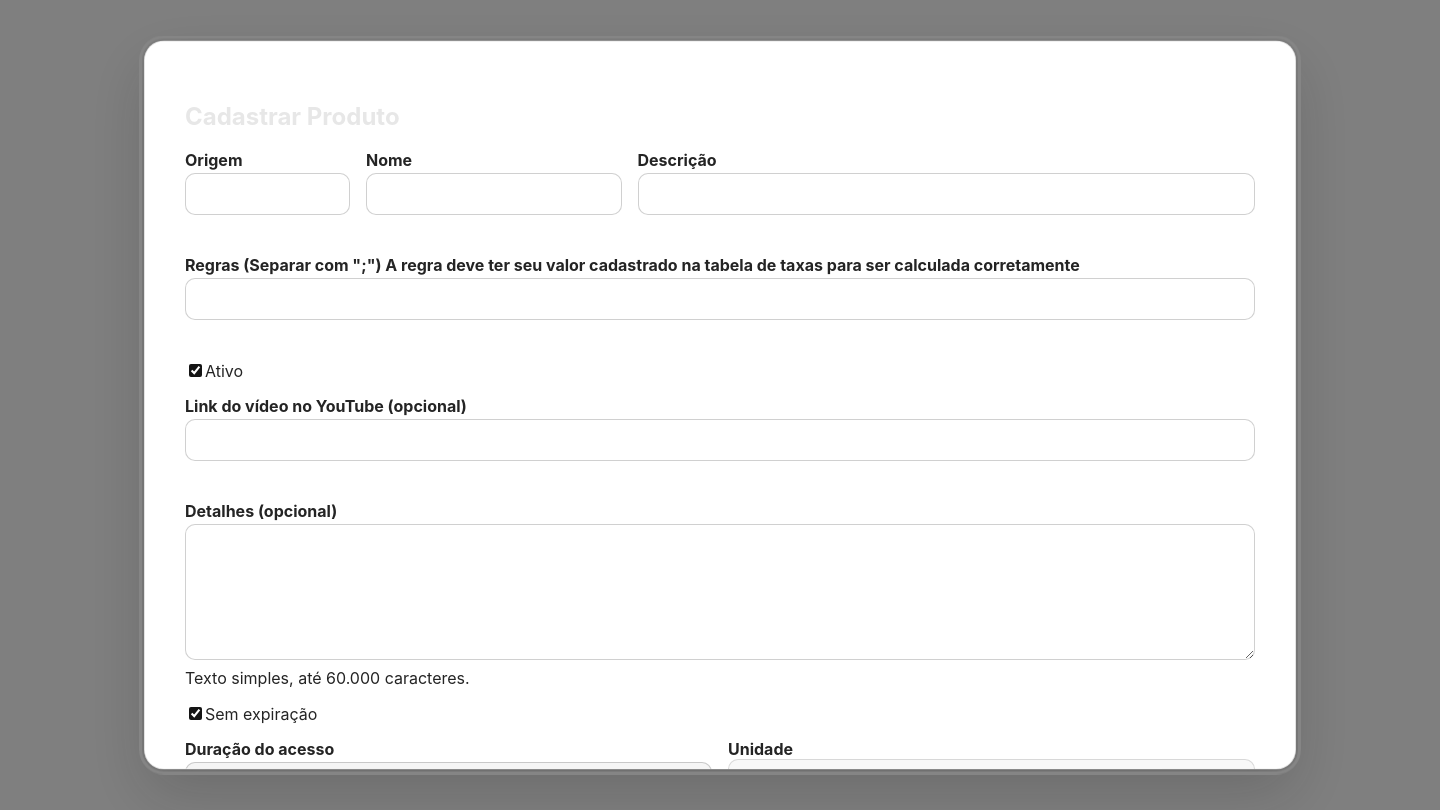
rejects links that do not identify a YouTube video: https://youtube.com.evil.example/watch?v=AbCdEf_1234
In the field labelled "Origem": (268, 193) [185, 172, 350, 214], type "ORIGEM"
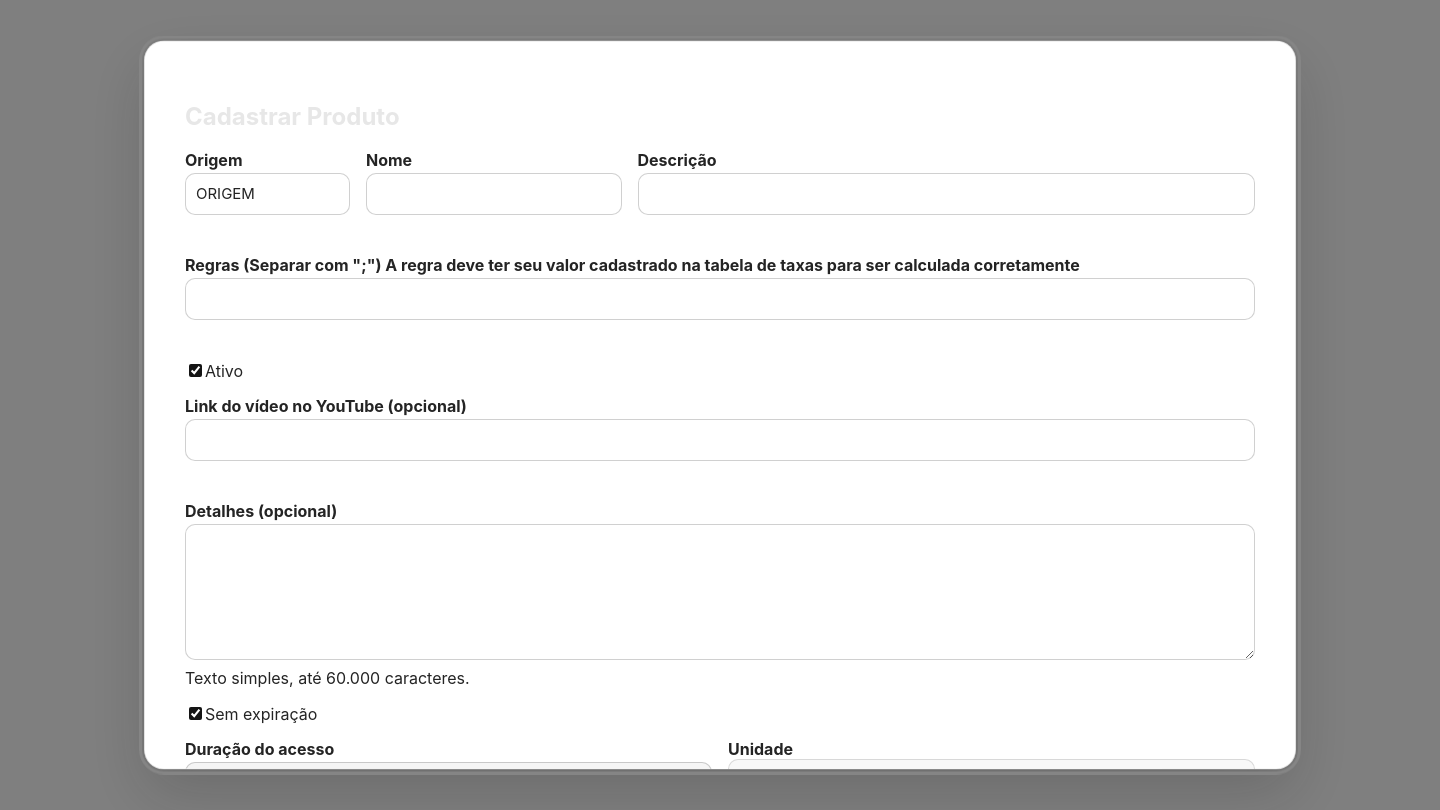
In the field labelled "Nome": (494, 193) [366, 172, 622, 214], type "Admissão"
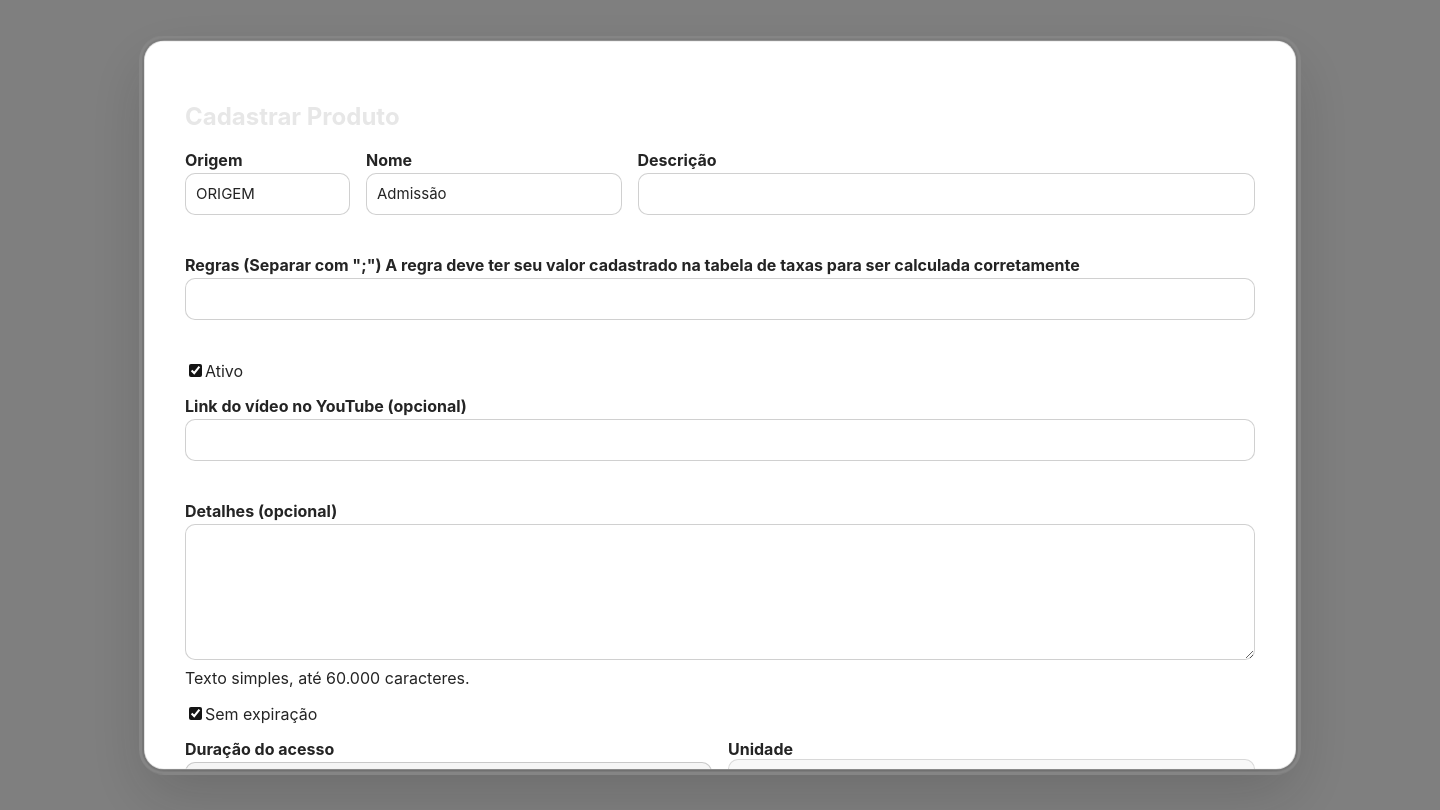
In the field labelled "Descrição": (946, 193) [638, 172, 1255, 214], type "Produto de teste"
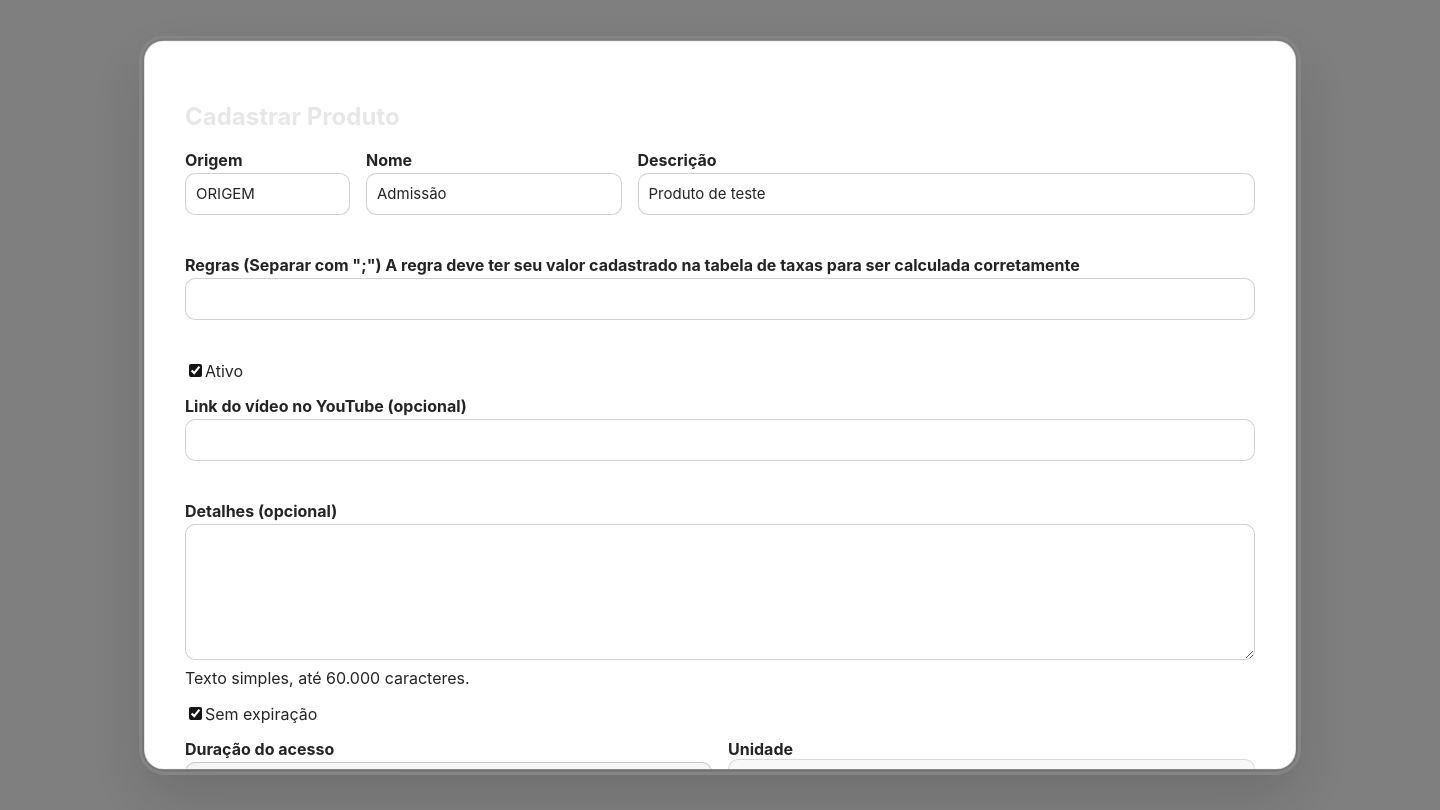
In the field labelled "Link do vídeo no YouTube (opcional)": (720, 439) [185, 418, 1255, 460], type "https://youtube.com.evil.example/watch?v=AbCdEf_1234"
(page scrolled)
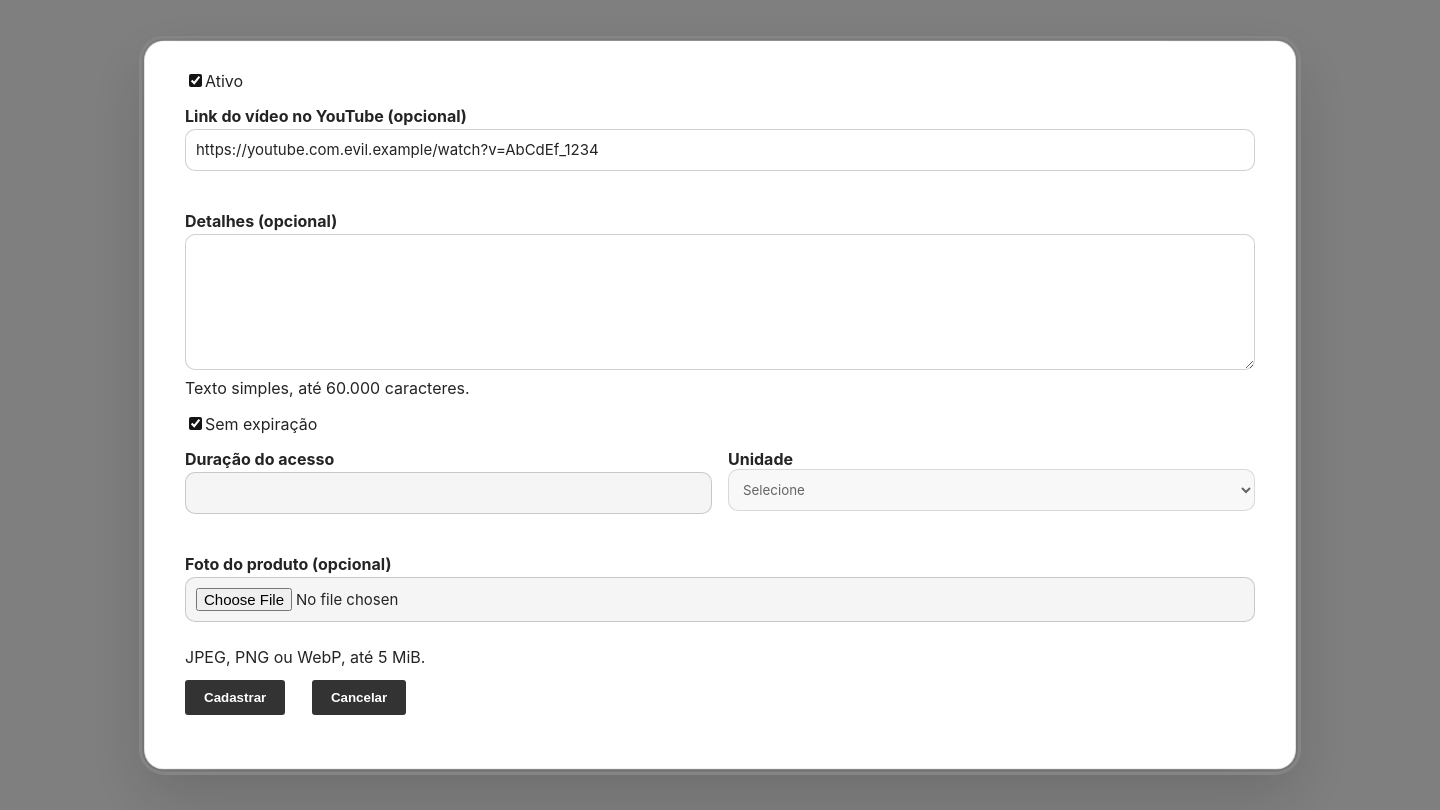
Click the button "Cadastrar": (235, 698) [185, 681, 285, 716]
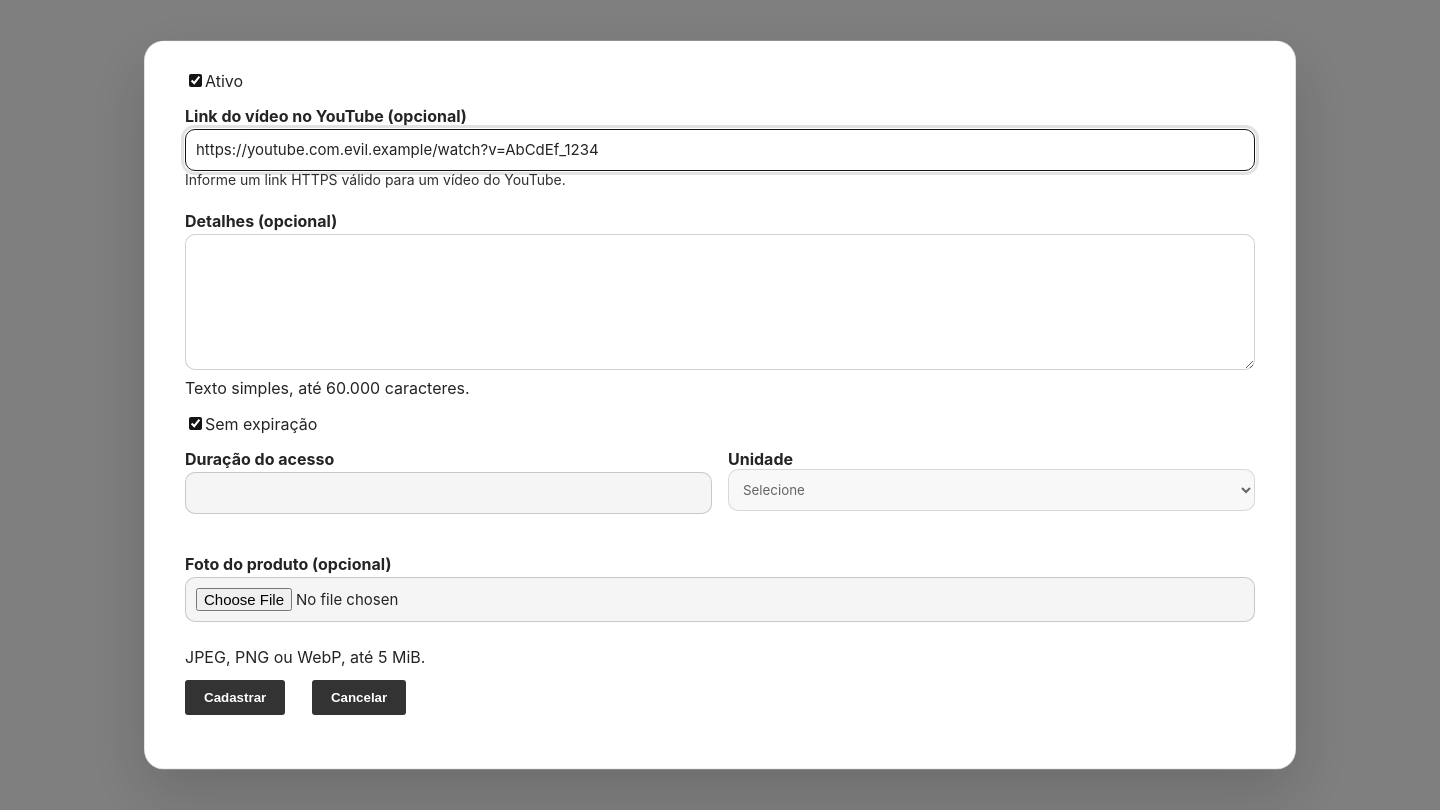
Expected: the text "Informe um link HTTPS válido para um vídeo do YouTube." is shown, [185, 171, 566, 188]
